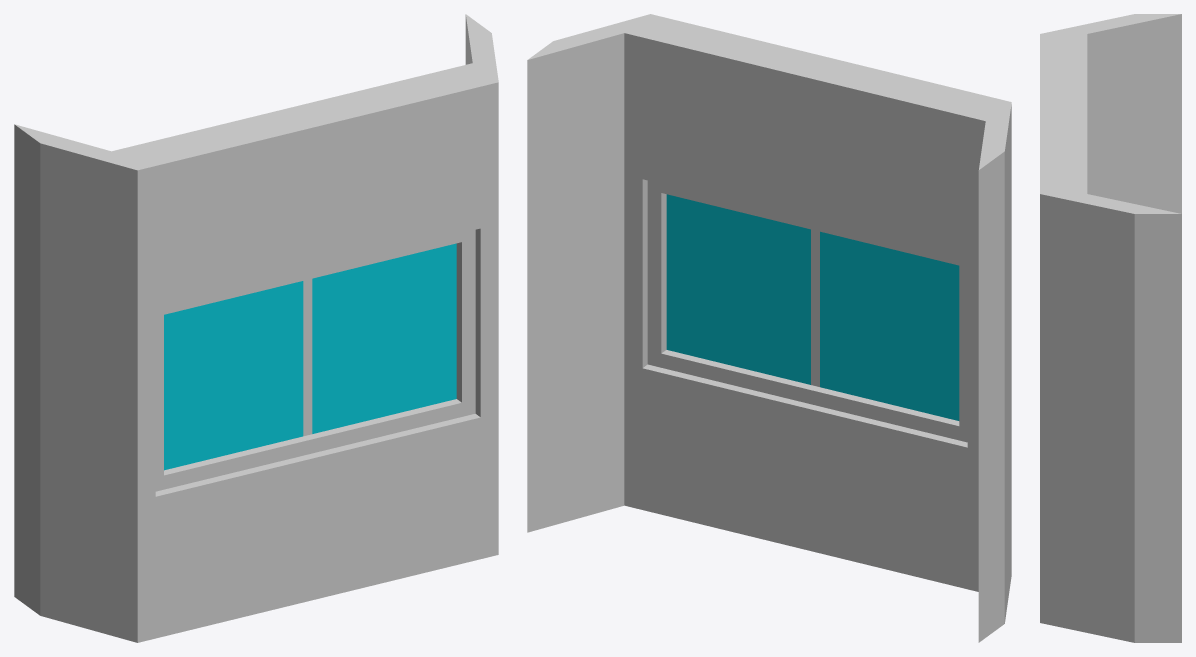
The model's file is window_bay_4b.glb.
The picture shows the model from 3 angles, left to right: view 1: azimuth 30°, elevation 25°; view 2: azimuth 150°, elevation 25°; view 3: azimuth 270°, elevation 25°; orthographic projection. The views are drawn at different scales.
Parts seen in each view (by area): view 1: window_bay_4b; view 2: window_bay_4b; view 3: window_bay_4b.
Part boxes in pixels (<box>): window_bay_4b: <box>14,14,498,642</box>; window_bay_4b: <box>527,14,1011,642</box>; window_bay_4b: <box>1040,14,1181,642</box>.
Size of the model in its own units: 1 by 1 by 0.3.
